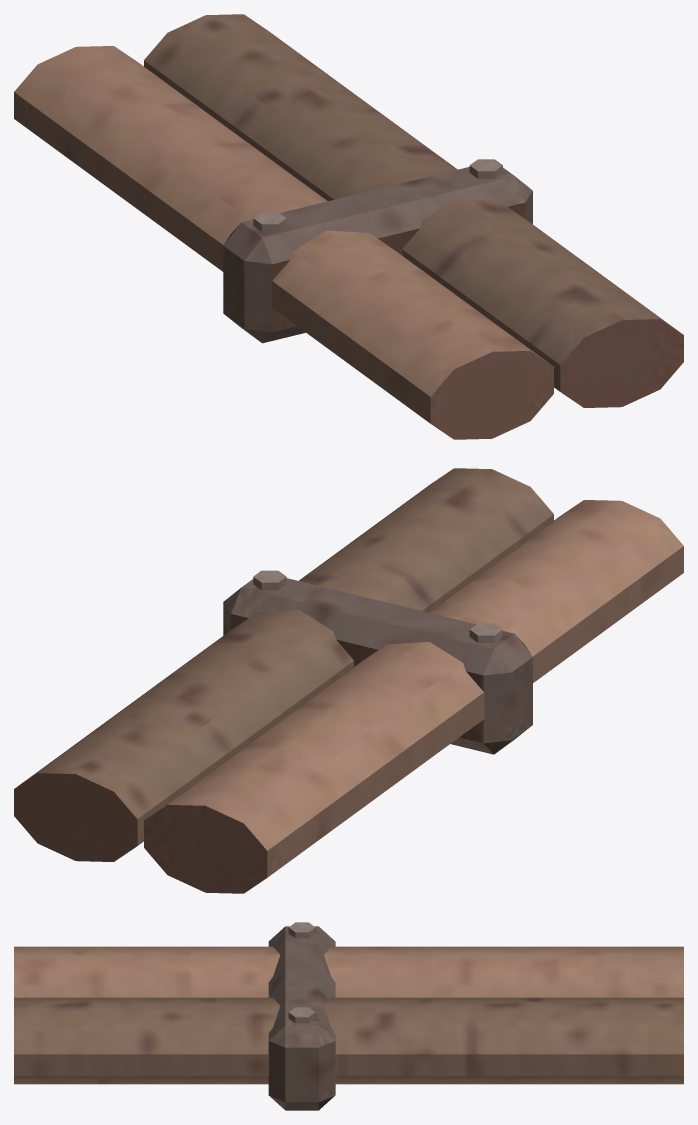
Rendered from heat-pipe-straight-vertical.glb.
The picture shows the model from 3 angles, top to bottom: view 1: azimuth 30°, elevation 25°; view 2: azimuth 150°, elevation 25°; view 3: azimuth 270°, elevation 25°; orthographic projection. The views are drawn at different scales.
Visible parts, largest first — view 1: body; view 2: body; view 3: body.
Boxes of the visible parts, x1,y1,x2,y2 form: body: (14,14,683,439); body: (14,468,683,893); body: (14,922,683,1110).
Bounding box in the file's own units: 0.4 × 0.15 × 1.
1 material, 1 textured.
